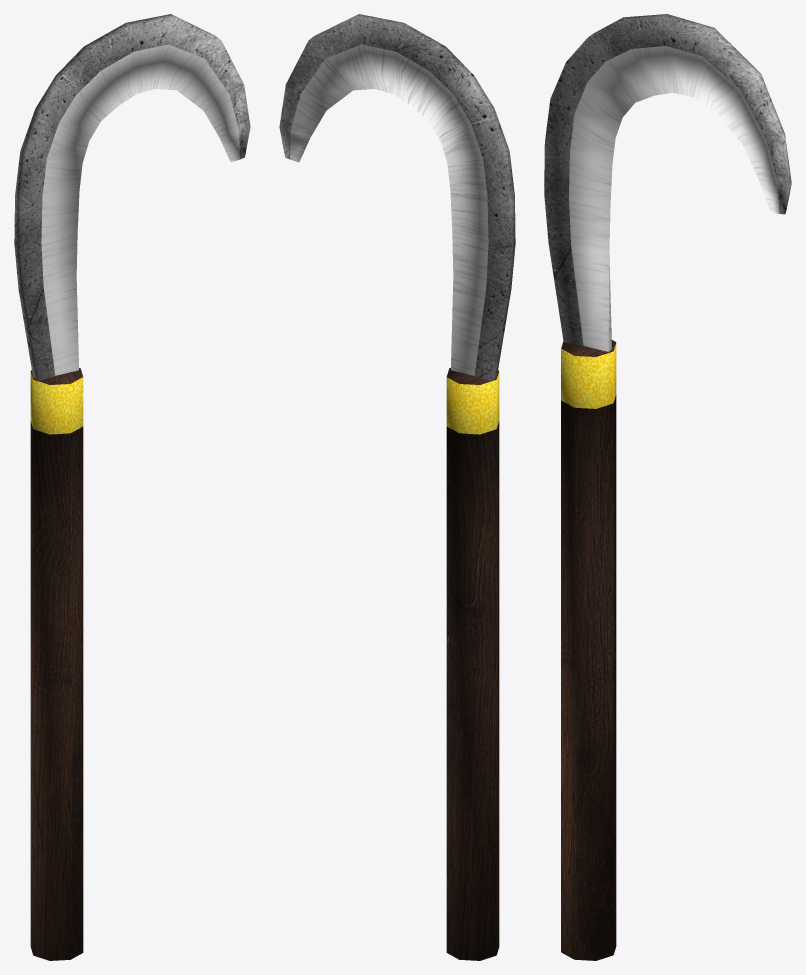
File: Scythe2.fbx
3 views of the same model, side by side, from view 1: azimuth 30°, elevation 25°; view 2: azimuth 150°, elevation 25°; view 3: azimuth 330°, elevation 25° (orthographic). The views are drawn at different scales.
Visible parts, largest first — view 1: Cube.008; view 2: Cube.008; view 3: Cube.008.
Part boxes in pixels (left/top/right/bottom): Cube.008: left=14, top=14, right=250, bottom=960; Cube.008: left=279, top=14, right=515, bottom=960; Cube.008: left=544, top=14, right=791, bottom=960.
Bounding box in the file's own units: 11.38 × 2.32 × 42.51.
4 materials, 4 textured.
